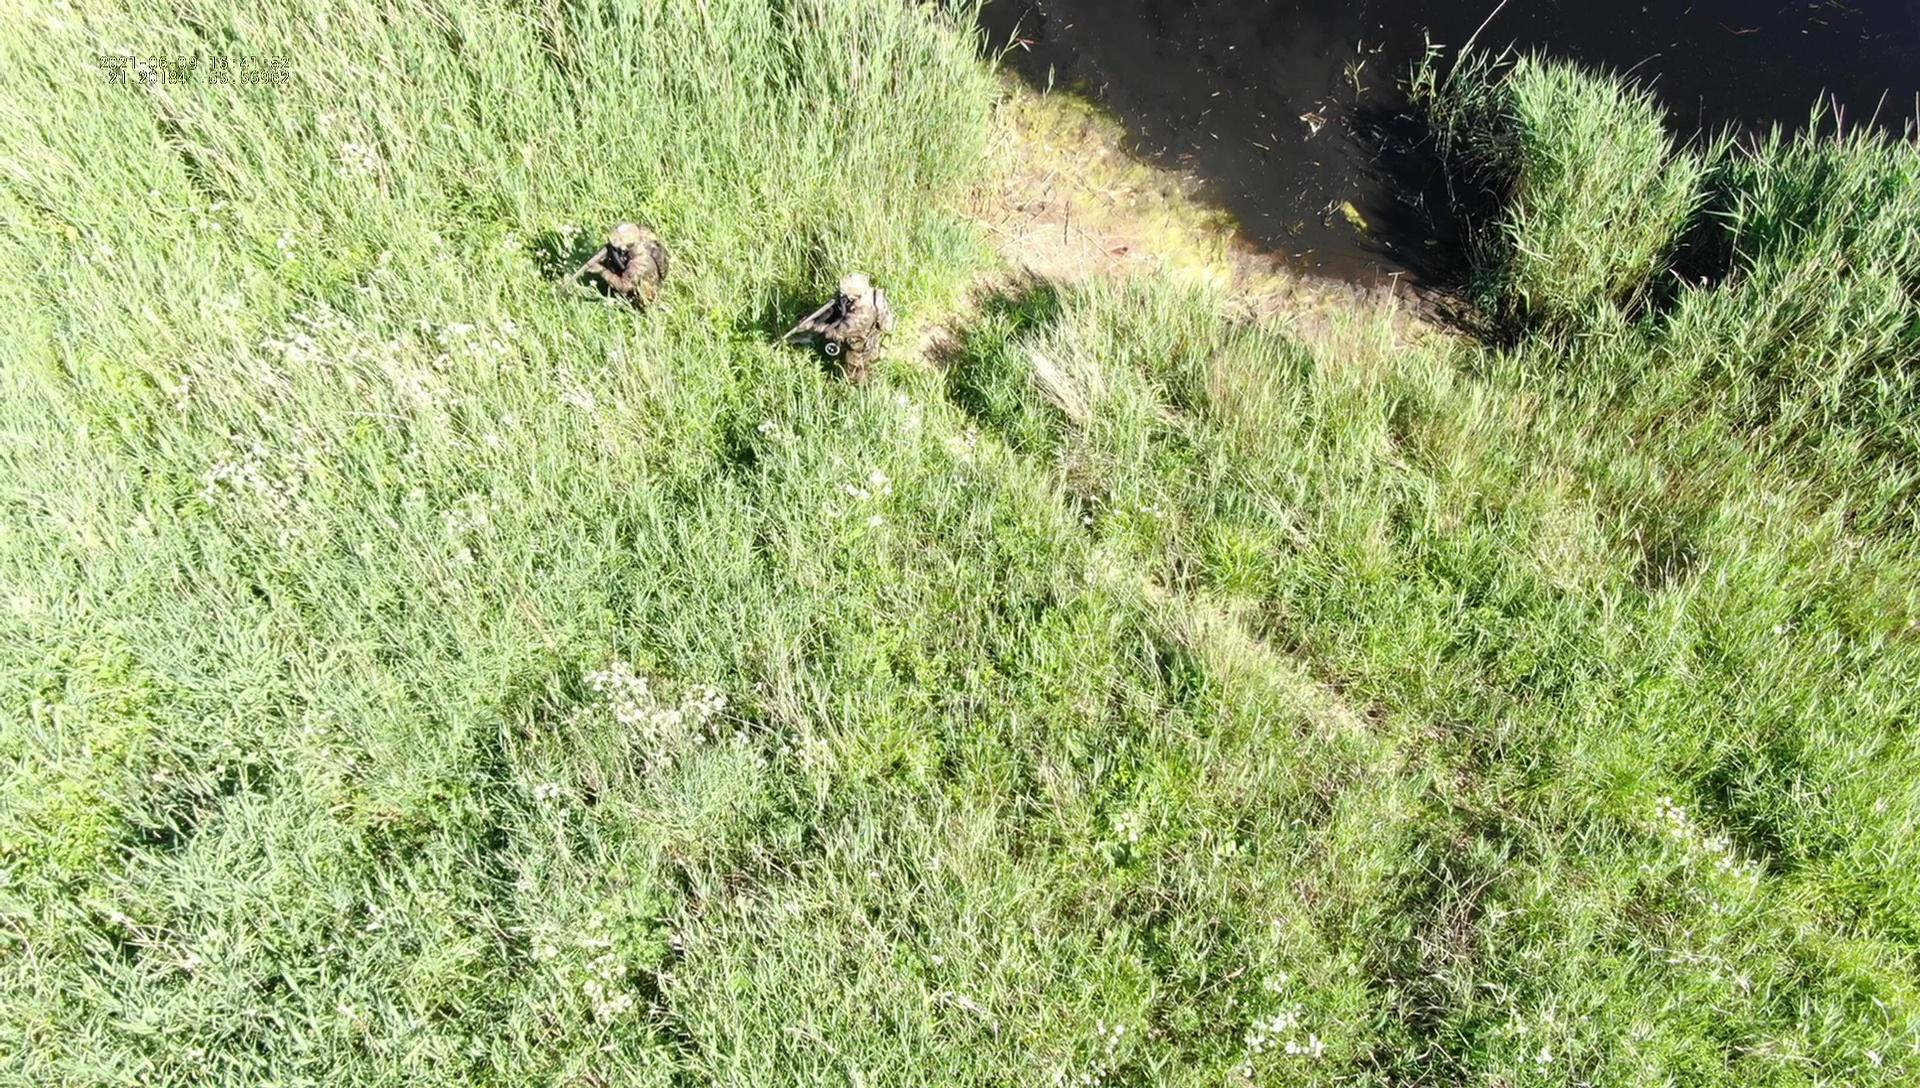Soldier: (778, 272, 895, 384), (555, 222, 673, 314)
